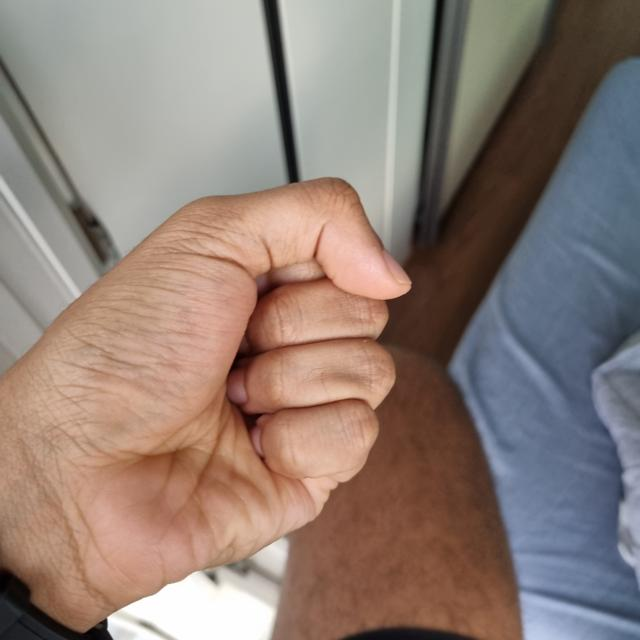Rock: (0, 172, 411, 628)
